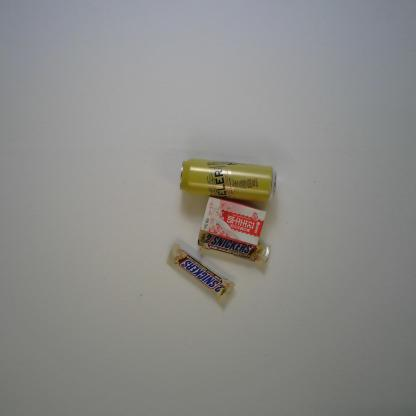Alcohol: (178, 157, 278, 205)
Chocolate: (165, 241, 237, 305), (196, 226, 271, 266)
Milk: (200, 195, 267, 247)
